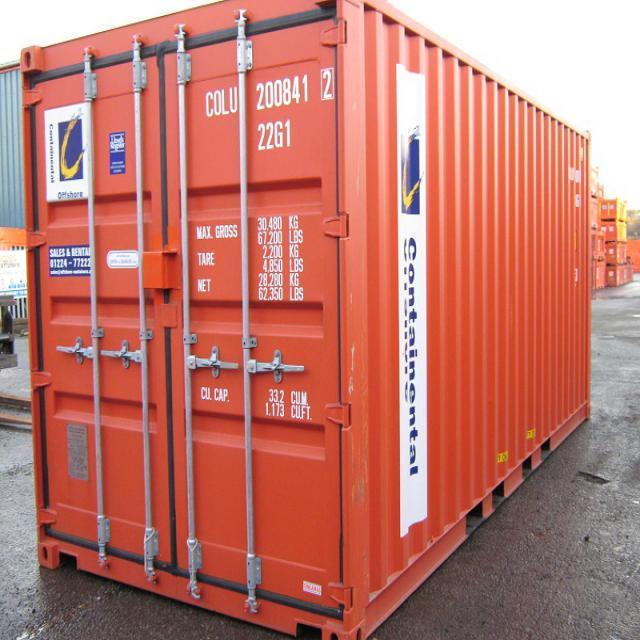ISO: (256, 119, 294, 148)
container_number: (204, 69, 338, 119)
